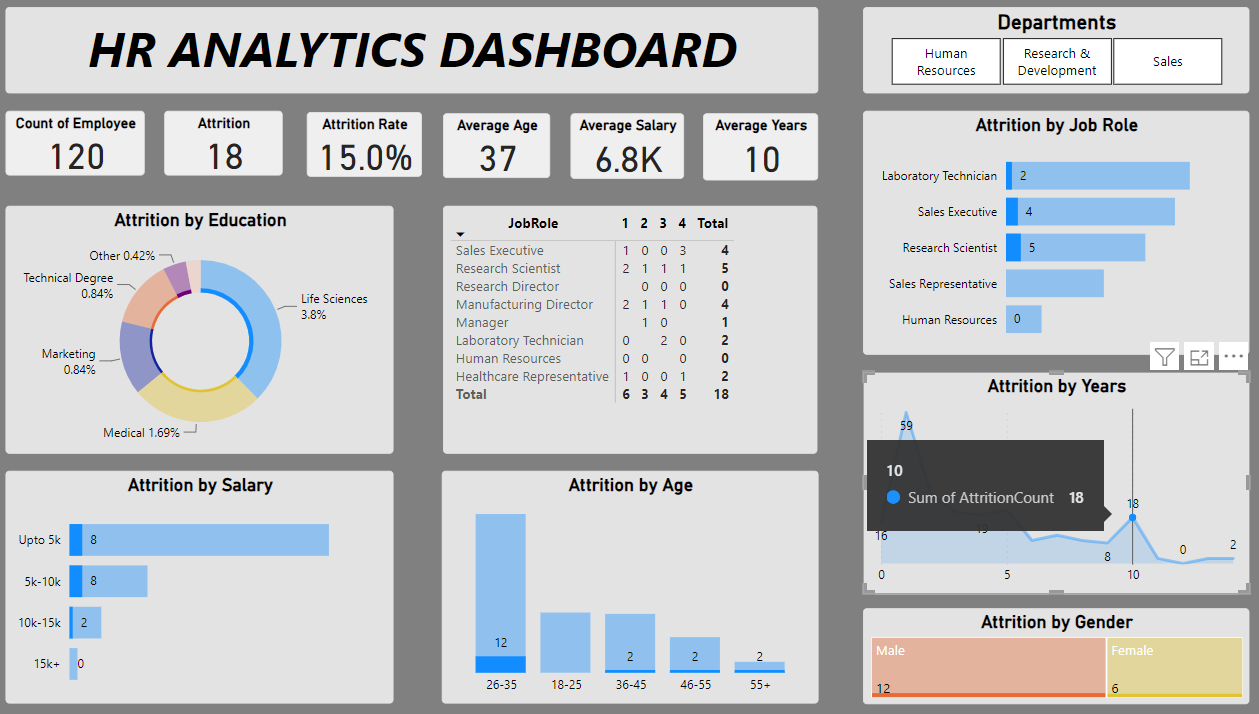

This screenshot's page, from the dashboard's own definition file:
{"tool":"powerbi","page":{"name":"Page 1","canvas":[1280,720],"ordinal":0},"visuals":[{"type":"card","title":"Count of Employee","fields":{"Values":["CountNonNull(HR_Analytics.EmpID)"]},"box":[17,113.8,139.4,64.9],"z":0},{"type":"card","title":"Attrition","fields":{"Values":["Sum(HR_Analytics.AttritionCount)"]},"box":[176.6,113.8,118.1,64.9],"z":1000},{"type":"card","title":"Attrition Rate","fields":{"Values":["HR_Analytics.AttritionRate"]},"box":[319.1,114.9,114.9,64.9],"z":2000},{"type":"card","title":"Average Age ","fields":{"Values":["Avg(HR_Analytics.Age)"]},"box":[455.3,116,107.4,64.9],"z":3000},{"type":"card","title":"Average Salary","fields":{"Values":["Avg(HR_Analytics.MonthlyIncome)"]},"box":[583,116,113.8,66],"z":4000},{"type":"card","title":"Average Years ","fields":{"Values":["Avg(HR_Analytics.YearsAtCompany)"]},"box":[714.9,116,114.9,67],"z":5000},{"type":"donutChart","title":"Attrition by Education","fields":{"Category":["HR_Analytics.EducationField"],"Y":["Sum(HR_Analytics.AttritionCount)"]},"box":[17,208.5,388.3,247.9],"z":6000},{"type":"columnChart","title":"Attrition by Age","fields":{"Category":["HR_Analytics.AgeGroup"],"Y":["Sum(HR_Analytics.AttritionCount)"]},"box":[453.2,473.4,376.6,233],"z":7000},{"type":"pivotTable","fields":{"Rows":["HR_Analytics.JobRole"],"Columns":["HR_Analytics.JobSatisfaction"],"Values":["Sum(HR_Analytics.AttritionCount)"]},"box":[455.3,208.5,374.5,247.9],"z":8000},{"type":"barChart","title":"Attrition by Salary","fields":{"Category":["HR_Analytics.SalarySlab"],"Y":["Sum(HR_Analytics.AttritionCount)"]},"box":[17,473.4,388.3,233],"z":9000},{"type":"barChart","title":"Attrition by Job Role","fields":{"Category":["HR_Analytics.JobRole"],"Y":["Sum(HR_Analytics.AttritionCount)"]},"box":[875.5,113.8,386.2,243.6],"z":10000},{"type":"areaChart","title":"Attrition by Years","fields":{"Category":["HR_Analytics.YearsAtCompany"],"Y":["Sum(HR_Analytics.AttritionCount)"]},"box":[875,375,386.2,222.5],"z":11000},{"type":"treemap","title":"Attrition by Gender","fields":{"Group":["HR_Analytics.Gender"],"Values":["Sum(HR_Analytics.AttritionCount)"]},"box":[875.5,610.6,386.2,95.7],"z":12000},{"type":"slicer","title":"Departments","fields":{"Values":["HR_Analytics.Department"]},"box":[875.5,9.6,386.2,86.2],"z":13000},{"type":"textbox","box":[17,9.6,812.8,86.2],"z":14000}]}

Visuals, with their boxes in screenshot pixels (x1, y1, x2, y2), scaled from the page's 1280x720 canvas onto the 1259x714 screenshot:
"Count of Employee" card: x1=17 y1=113 x2=154 y2=177
"Attrition" card: x1=174 y1=113 x2=290 y2=177
"Attrition Rate" card: x1=314 y1=114 x2=427 y2=178
"Average Age " card: x1=448 y1=115 x2=553 y2=179
"Average Salary" card: x1=573 y1=115 x2=685 y2=180
"Average Years " card: x1=703 y1=115 x2=816 y2=181
"Attrition by Education" donutChart: x1=17 y1=207 x2=399 y2=453
"Attrition by Age" columnChart: x1=446 y1=469 x2=816 y2=701
pivotTable - HR_Analytics.JobRole x HR_Analytics.JobSatisfaction: x1=448 y1=207 x2=816 y2=453
"Attrition by Salary" barChart: x1=17 y1=469 x2=399 y2=701
"Attrition by Job Role" barChart: x1=861 y1=113 x2=1241 y2=354
"Attrition by Years" areaChart: x1=861 y1=372 x2=1241 y2=593
"Attrition by Gender" treemap: x1=861 y1=606 x2=1241 y2=700
"Departments" slicer: x1=861 y1=10 x2=1241 y2=95
textbox: x1=17 y1=10 x2=816 y2=95
